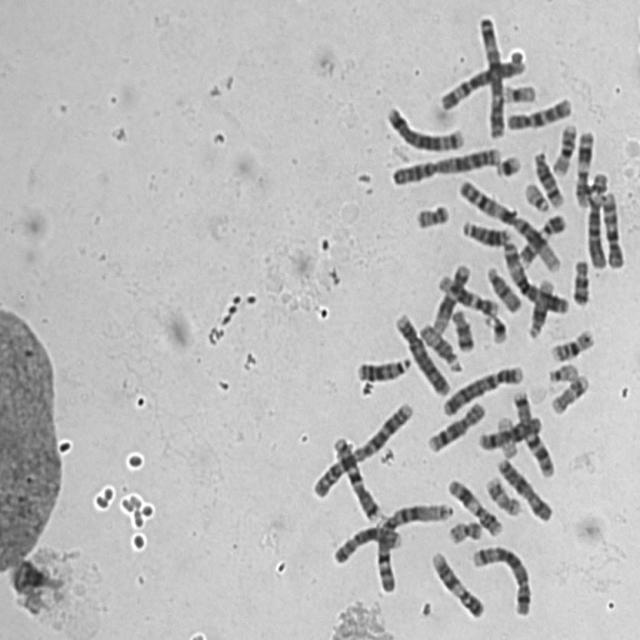A1: (453, 174, 563, 272), (372, 497, 454, 592)
A2: (307, 396, 415, 499), (387, 140, 503, 186)
A3: (498, 235, 572, 315), (474, 10, 506, 139)
B4: (390, 308, 452, 397), (438, 359, 525, 418)
B5: (466, 538, 533, 618), (381, 100, 465, 152)
C10: (501, 91, 574, 132), (598, 186, 626, 271)
C11: (442, 473, 505, 538), (571, 124, 596, 209)
C12: (427, 258, 472, 335), (433, 269, 502, 316)
C6: (435, 49, 527, 112), (582, 167, 610, 270)
C7: (327, 431, 383, 524), (508, 384, 556, 478)
C8: (422, 396, 488, 454), (328, 520, 404, 566)
C9: (426, 545, 486, 619), (514, 208, 568, 267)
D13: (351, 351, 413, 384), (457, 215, 514, 248)
D14: (529, 145, 566, 209), (523, 272, 556, 340)
D15: (414, 318, 464, 374), (482, 260, 523, 315)
E16: (546, 324, 596, 363), (547, 118, 579, 176)
E17: (546, 369, 591, 416), (481, 470, 523, 518)
E18: (447, 303, 476, 353), (568, 255, 592, 308)
F19: (492, 411, 520, 460), (498, 77, 538, 105)
F20: (411, 198, 452, 230), (443, 514, 485, 545)
G21: (479, 308, 510, 345), (491, 149, 522, 178)
G22: (520, 176, 552, 214), (543, 358, 580, 383)
X: (492, 452, 554, 523), (473, 411, 544, 452)
